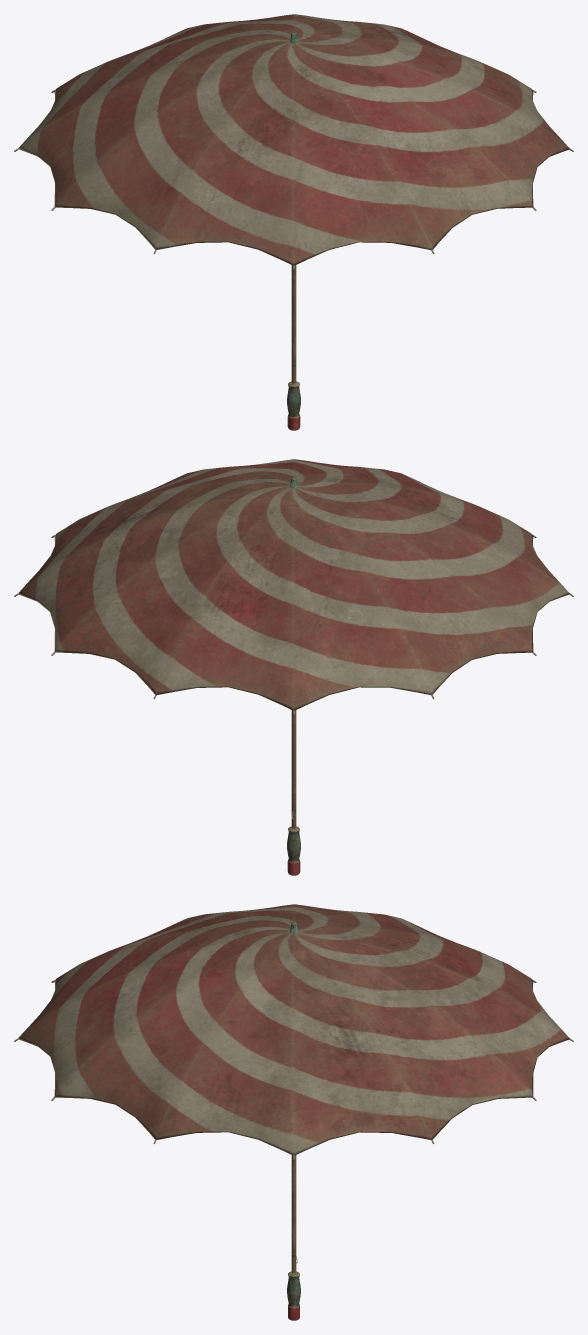
File: SM_Umbrella.fbx
The picture shows the model from 3 angles, top to bottom: view 1: azimuth 30°, elevation 25°; view 2: azimuth 150°, elevation 25°; view 3: azimuth 270°, elevation 25°; orthographic projection.
Parts seen in each view (by area): view 1: SM_Umbrella_LOD0; view 2: SM_Umbrella_LOD0; view 3: SM_Umbrella_LOD0.
Boxes of the visible parts, box(x1,y1,x2,y2) form: SM_Umbrella_LOD0: box(14, 14, 573, 430); SM_Umbrella_LOD0: box(14, 459, 573, 875); SM_Umbrella_LOD0: box(14, 904, 573, 1320).
Bounding box in the file's own units: 167 × 167 × 130.
Materials: 1 (1 with a texture image).
